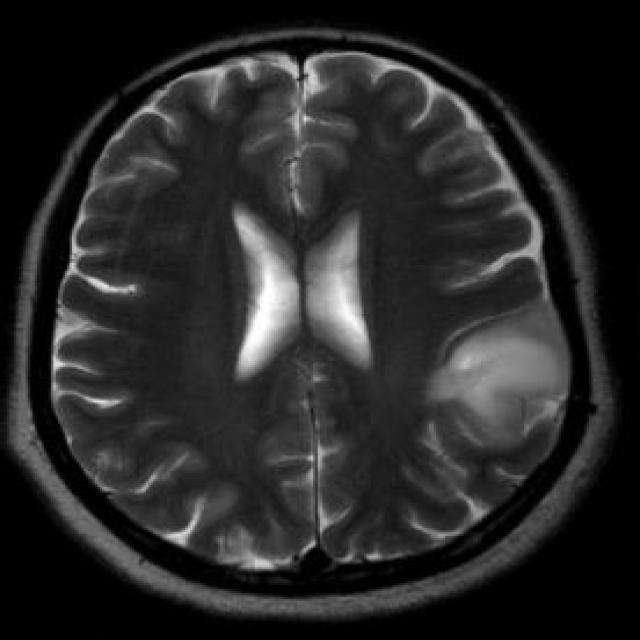tumor: (432, 309, 609, 455)
